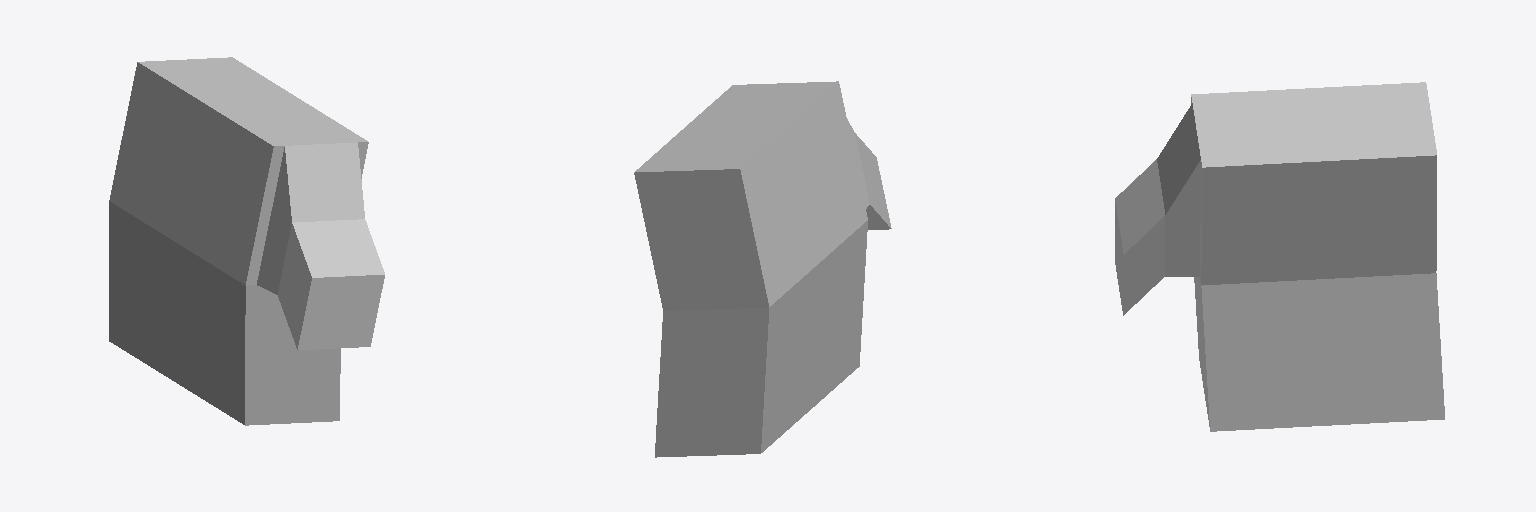
File: L_HandO.obj
3 views of the same model, side by side, from view 1: azimuth 30°, elevation 25°; view 2: azimuth 150°, elevation 25°; view 3: azimuth 270°, elevation 25° (orthographic).
Parts seen in each view (by area): view 1: pCube42; view 2: pCube42; view 3: pCube42.
Boxes of the visible parts, <box> form: pCube42: <box>109,57,384,425</box>; pCube42: <box>634,81,891,457</box>; pCube42: <box>1115,82,1444,431</box>.
Bounding box in the file's own units: 0.4579 × 0.8955 × 0.8847.